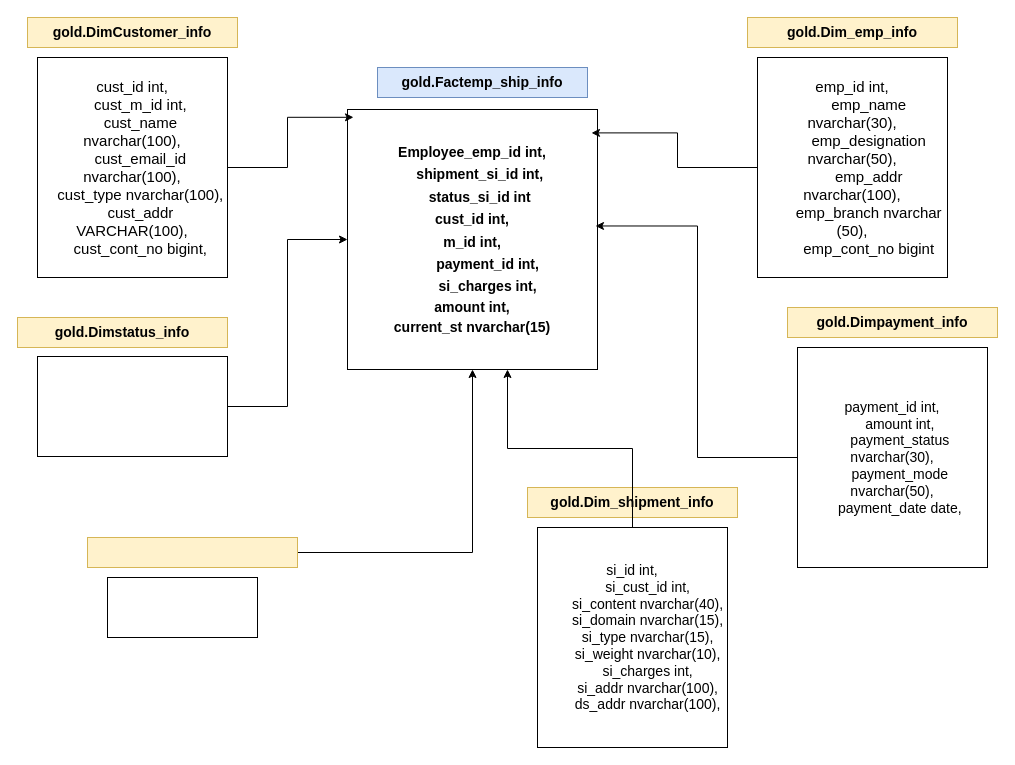
Image size: 1015x765. Some labels were removed from this diagram. Here are the shapes that lost their labels. From the top down, the centre of each, then its label:
At point (132, 406): "status_si_id int, current_st nvarchar(15), sent_date date, delivery_date date".
At point (192, 552): "gold.Dimmembership_info".
At point (182, 607): "m_id int, Startdate DATE, end_date date".
